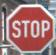Stop sign: (0, 0, 55, 54)
